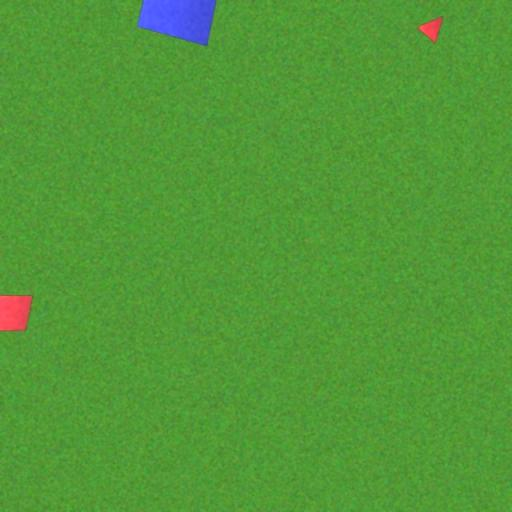BLUE_SQUARE: (136, 0, 223, 46)
RED_SQUARE: (0, 294, 34, 332)
